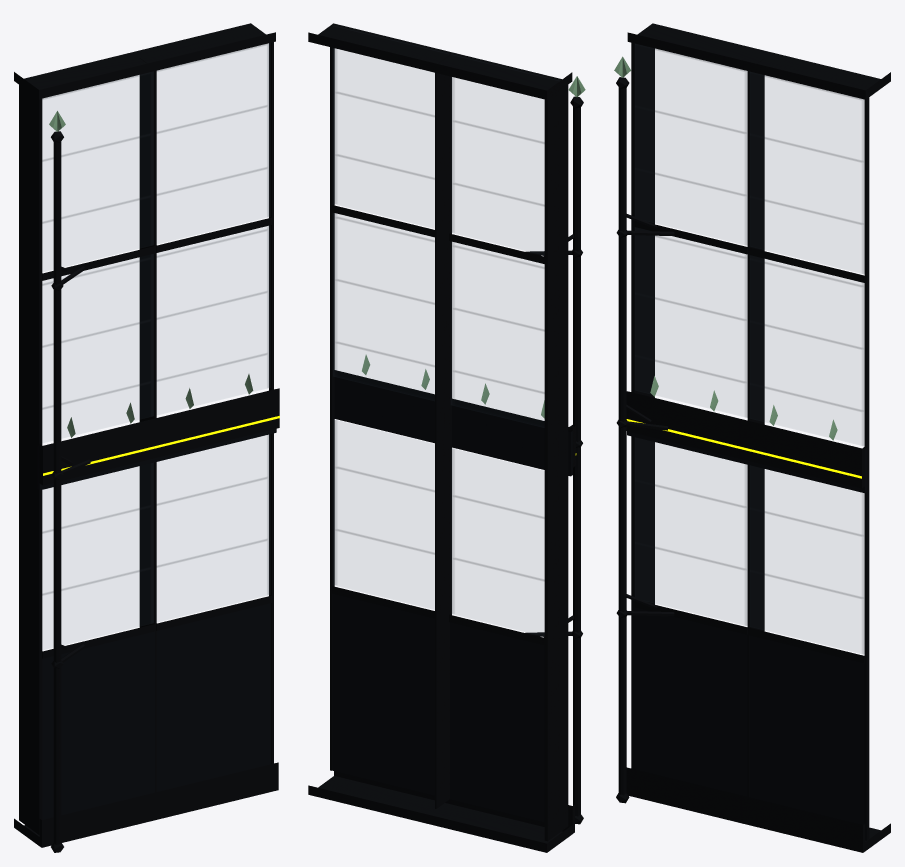
The picture shows the model from 3 angles, left to right: view 1: azimuth 30°, elevation 25°; view 2: azimuth 150°, elevation 25°; view 3: azimuth 330°, elevation 25°; orthographic projection.
Parts seen in each view (by area): view 1: Frame, Slate_Panels, Slab_Band_Step, Glass_5, Glass_7, Glass_4, Glass_6, Glass_3, Slab_Band_Slate, Glass_2, Slab_Band_Court_Line; view 2: Frame, Slate_Panels, Slab_Band_Slate, Glass_5, Glass_4, Glass_3, Glass_7, Glass_2, Slab_Band_Step, Glass_6; view 3: Frame, Slate_Panels, Slab_Band_Step, Glass_5, Glass_4, Glass_7, Glass_6, Glass_3, Glass_2, Slab_Band_Slate, Slab_Band_Court_Line.
Boxes of the visible parts, box(x1,y1,x2,y2) form: Frame: box(14, 23, 278, 852); Slate_Panels: box(42, 603, 271, 819); Slab_Band_Step: box(39, 388, 279, 485); Glass_5: box(157, 226, 270, 387); Glass_7: box(157, 43, 270, 216); Glass_4: box(42, 254, 153, 416); Glass_6: box(42, 71, 153, 245); Glass_3: box(157, 434, 270, 594); Slab_Band_Slate: box(37, 389, 276, 490); Glass_2: box(42, 463, 153, 623); Slab_Band_Court_Line: box(43, 415, 279, 475); Frame: box(308, 23, 583, 852); Slate_Panels: box(332, 593, 544, 822); Slab_Band_Slate: box(334, 374, 572, 476); Glass_5: box(333, 213, 434, 376); Glass_4: box(451, 242, 544, 405); Glass_3: box(333, 419, 434, 585); Glass_7: box(333, 48, 434, 203); Glass_2: box(451, 448, 544, 613); Slab_Band_Step: box(334, 370, 575, 467); Glass_6: box(451, 77, 544, 232); Frame: box(616, 23, 890, 852); Slate_Panels: box(634, 607, 864, 824); Slab_Band_Step: box(626, 391, 865, 488); Glass_5: box(750, 258, 864, 445); Glass_4: box(635, 230, 747, 417); Glass_7: box(750, 72, 864, 273); Glass_6: box(635, 44, 747, 245); Glass_3: box(750, 493, 864, 654); Glass_2: box(635, 464, 747, 625); Slab_Band_Slate: box(627, 391, 866, 493); Slab_Band_Court_Line: box(626, 419, 861, 478).
Bounding box in the file's own units: 4 × 12.2 × 1.2.
Materials: 5 (3 with a texture image).
